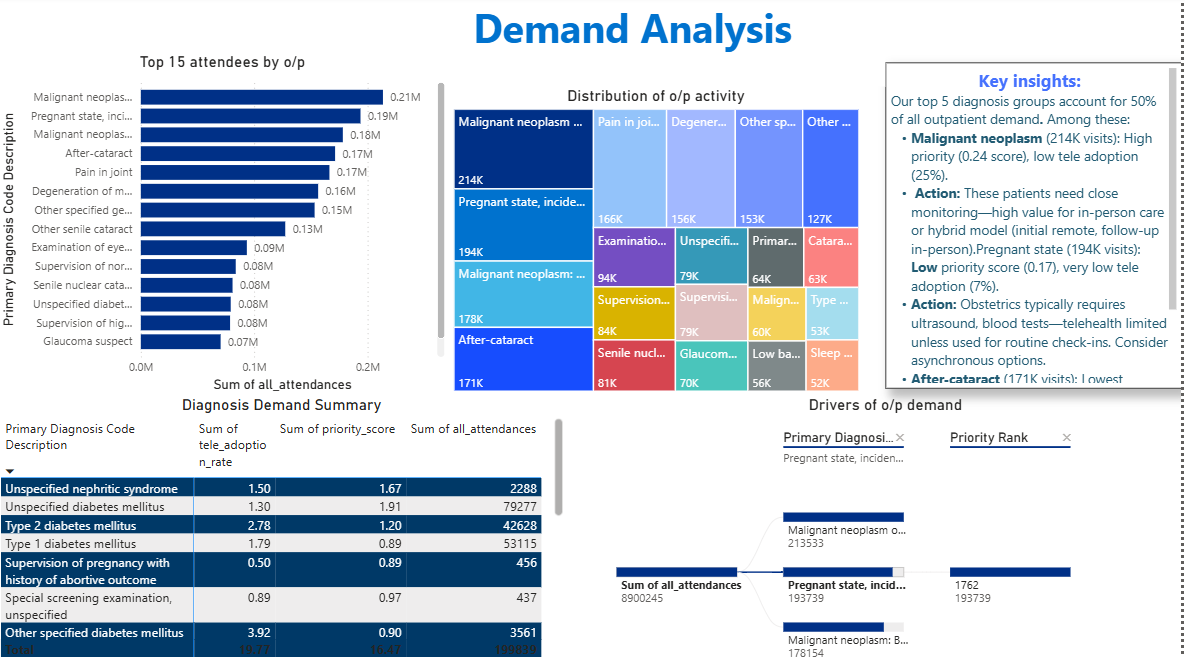

What the dashboard file says about the page in this screenshot:
{"tool":"powerbi","page":{"name":"demand analysis","canvas":[1280,720],"ordinal":1},"visuals":[{"type":"treemap","title":"Distribution of o/p activity","fields":{"Group":["nhs_outpatient_dataaa.Primary Diagnosis Code Description"],"Values":["Sum(nhs_outpatient_dataaa.all_attendances)"]},"box":[488.3,66.7,448.3,365],"z":0},{"type":"clusteredBarChart","title":"Top 15 attendees by o/p","fields":{"Category":["nhs_outpatient_dataaa.Primary Diagnosis Code Description"],"Y":["Sum(nhs_outpatient_dataaa.all_attendances)"]},"box":[0,33.3,488.3,396.7],"z":1000},{"type":"decompositionTreeVisual","title":"Drivers of o/p demand","fields":{"ExplainBy":["nhs_outpatient_dataaa.Primary Diagnosis Code Description","nhs_outpatient_dataaa.Priority Rank"],"Analyze":["Sum(nhs_outpatient_dataaa.all_attendances)"]},"box":[640,431.7,640,288.3],"z":2000},{"type":"pivotTable","title":"Diagnosis Demand Summary","fields":{"Rows":["nhs_outpatient_dataaa.Primary Diagnosis Code Description"],"Values":["Sum(nhs_outpatient_dataaa.tele_adoption_rate)","Sum(nhs_outpatient_dataaa.priority_score)","Sum(nhs_outpatient_dataaa.all_attendances)"]},"box":[0,450,616.7,270],"z":3000},{"type":"textbox","box":[960,73.3,320,351.7],"z":4000}]}

Visuals, with their boxes in screenshot pixels (x1, y1, x2, y2), scaled from the page's 1280x720 canvas onto the 1185x657 screenshot:
"Distribution of o/p activity" treemap: 452/61/867/394
"Top 15 attendees by o/p" clusteredBarChart: 0/30/452/392
"Drivers of o/p demand" decompositionTreeVisual: 592/394/1184/656
"Diagnosis Demand Summary" pivotTable: 0/411/571/656
textbox: 889/67/1184/388
